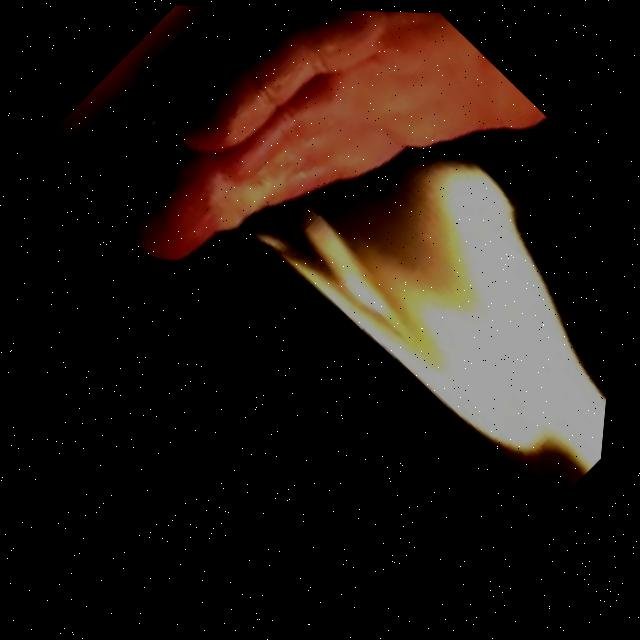Fire: (208, 60, 636, 525)
